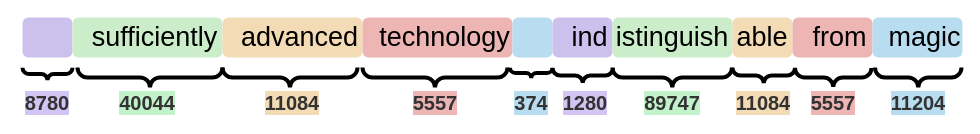
The diagram is 980 pixels wide and 134 high, and some of its shapes have lost their labels. The shapes that lost their labels are listed below. From the top down, each one's centre as x and y in pixels, then its label:
the point at 47,37: Any
the point at 532,37: is
